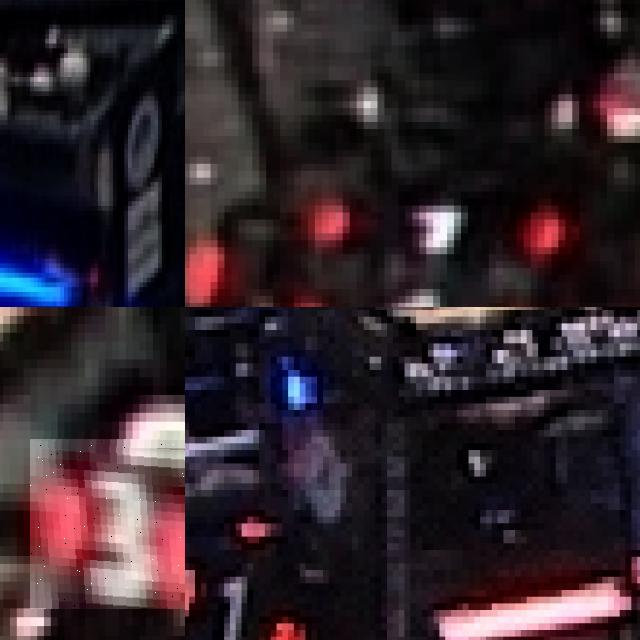R1: (280, 178, 565, 268), (185, 556, 299, 640)
R3: (30, 439, 185, 608)
